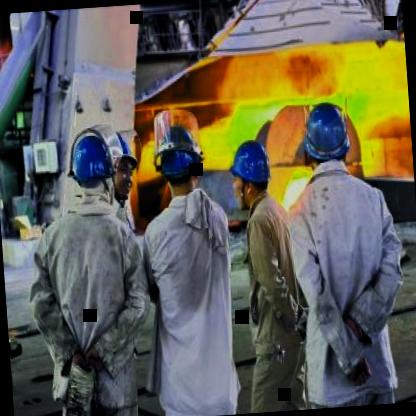helmet: (64, 127, 119, 220), (301, 103, 357, 174), (228, 131, 272, 208), (157, 126, 204, 198), (102, 130, 142, 196)
